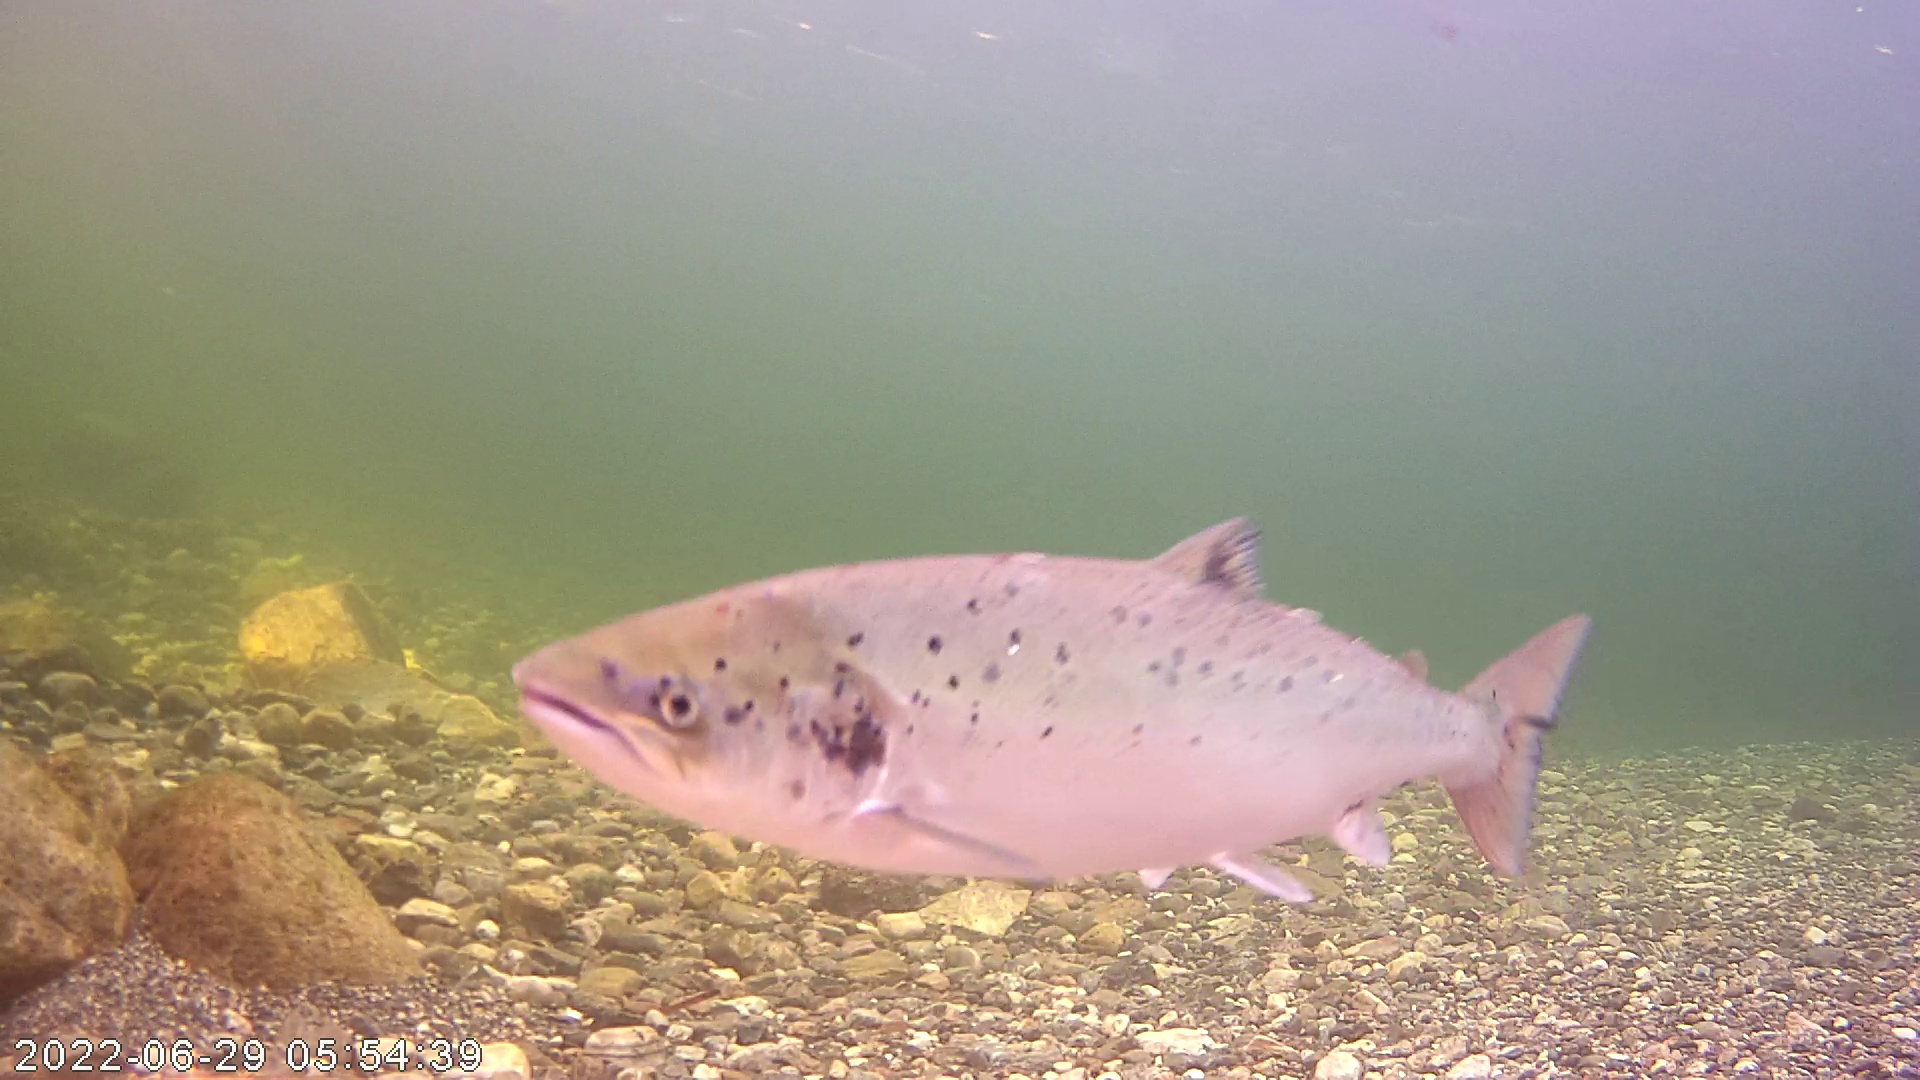salmon: (530, 418, 1588, 913)
